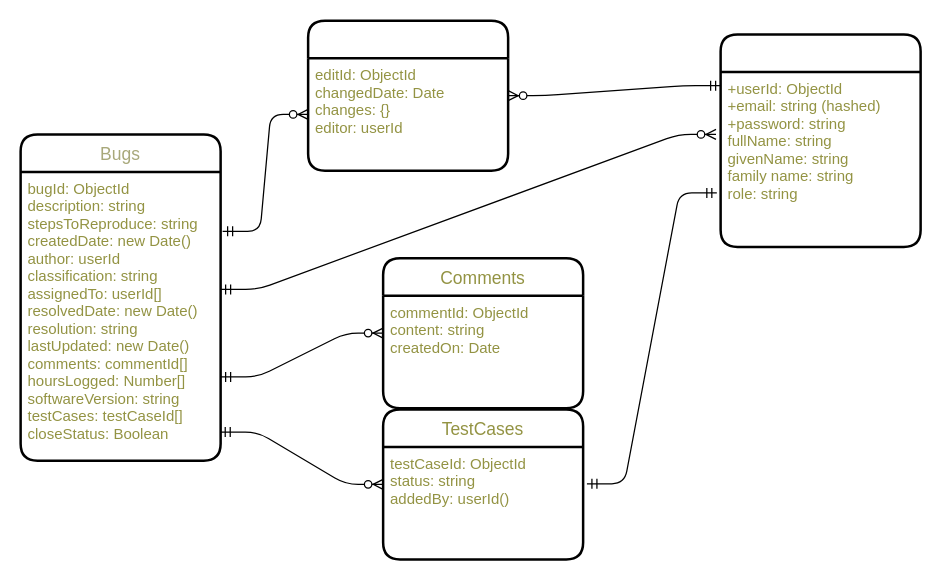
Some shapes in this 941 by 580 pixel diagram are drawn without their labels. The shapes that lost their labels are listed below. From the top down, each one's box as (x1, y1, x2, y2) in pixels, then its label:
(306, 19, 509, 171): Edits
(719, 32, 921, 248): Users
